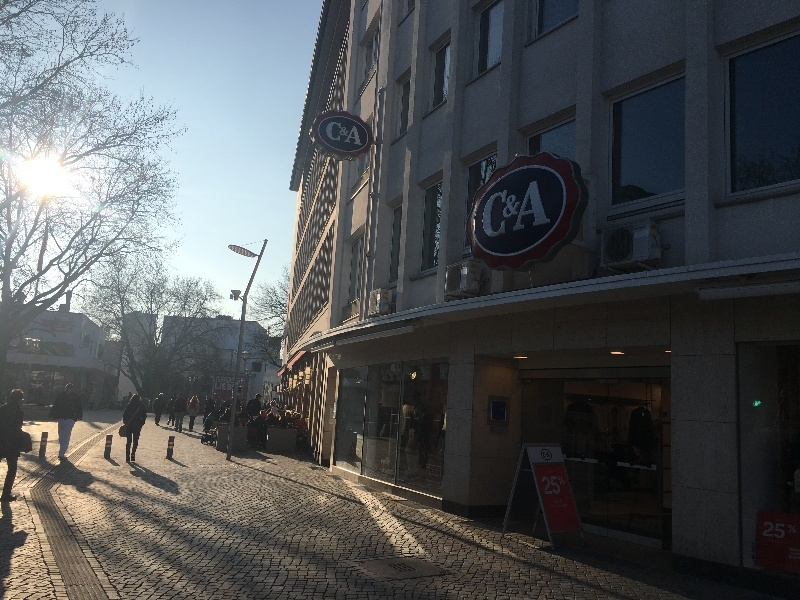text: (497, 180, 512, 242), (513, 180, 528, 242), (529, 180, 544, 242), (484, 180, 496, 242), (545, 180, 552, 242), (337, 121, 352, 147), (769, 521, 784, 542), (353, 121, 364, 147), (545, 476, 560, 495), (785, 521, 797, 542), (328, 121, 336, 147), (561, 476, 569, 495), (225, 376, 240, 384), (764, 521, 768, 542), (215, 383, 224, 391), (216, 376, 224, 384), (225, 383, 232, 391), (241, 376, 246, 384), (542, 476, 544, 495), (545, 452, 551, 458), (543, 452, 544, 458)
